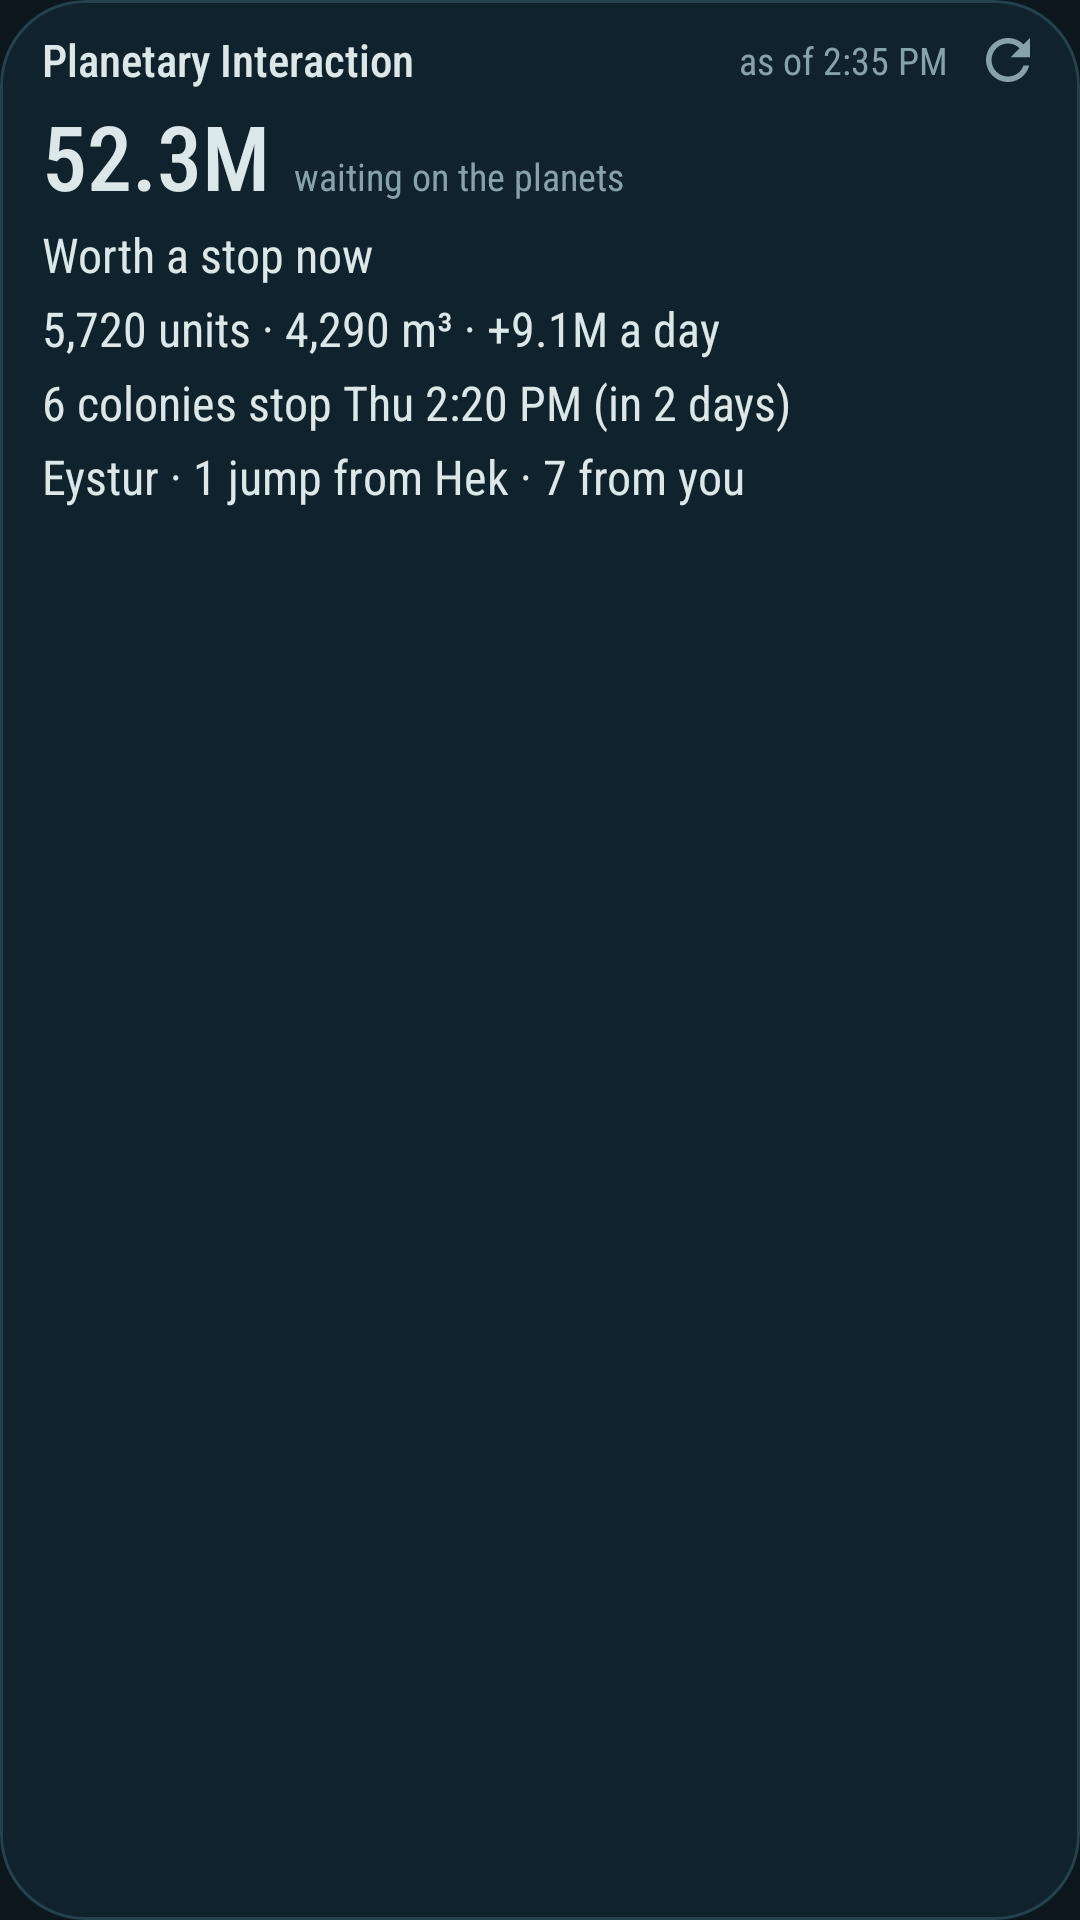

Icons on this 1080w x 1920h Android screen, each with the point to tap as point (x, y):
Refresh: point (1008, 60)
